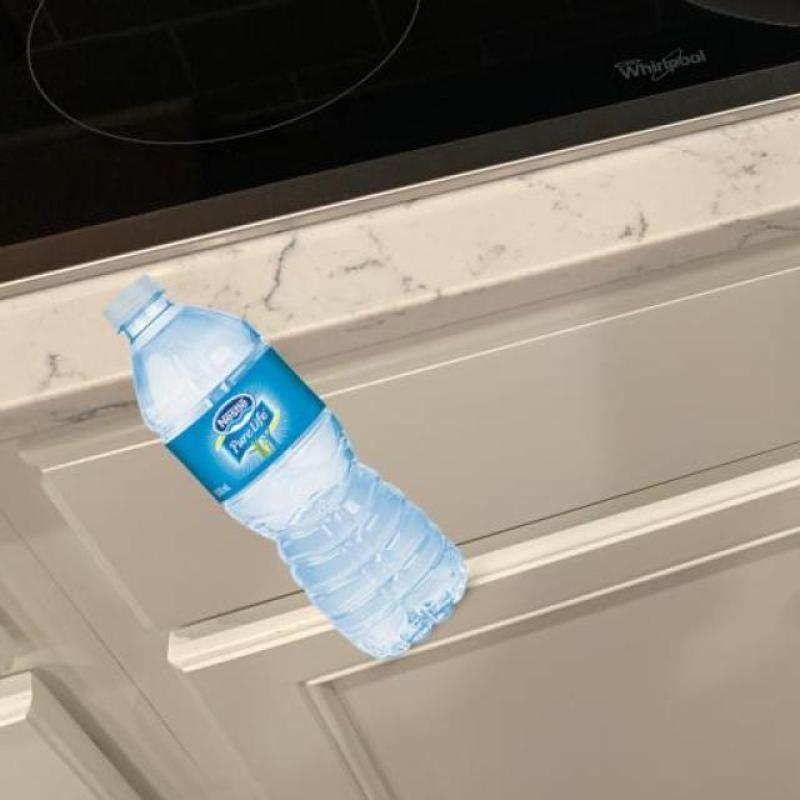botella: (108, 270, 468, 662)
